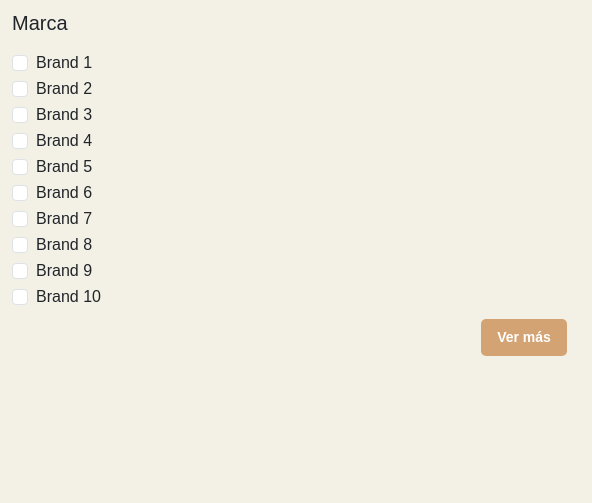
Test: FiltroMarca › ShowsAllCheckboxesAfterClickingViewMore
Step 1. Click the button "Ver más" → (524,338), box [481,319,567,356]
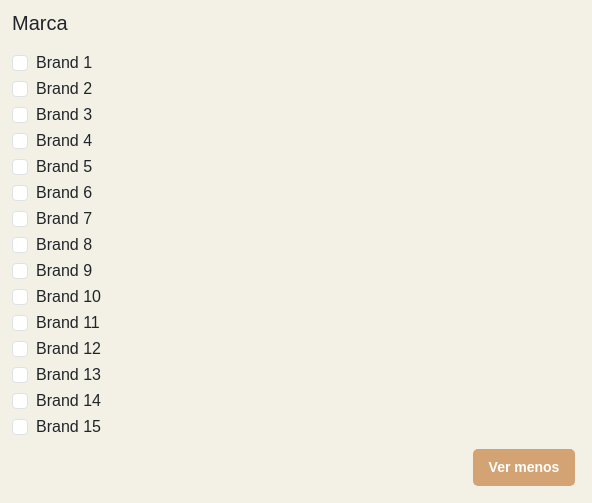
Check: the button "Ver menos" is shown, box [473,449,575,486]
